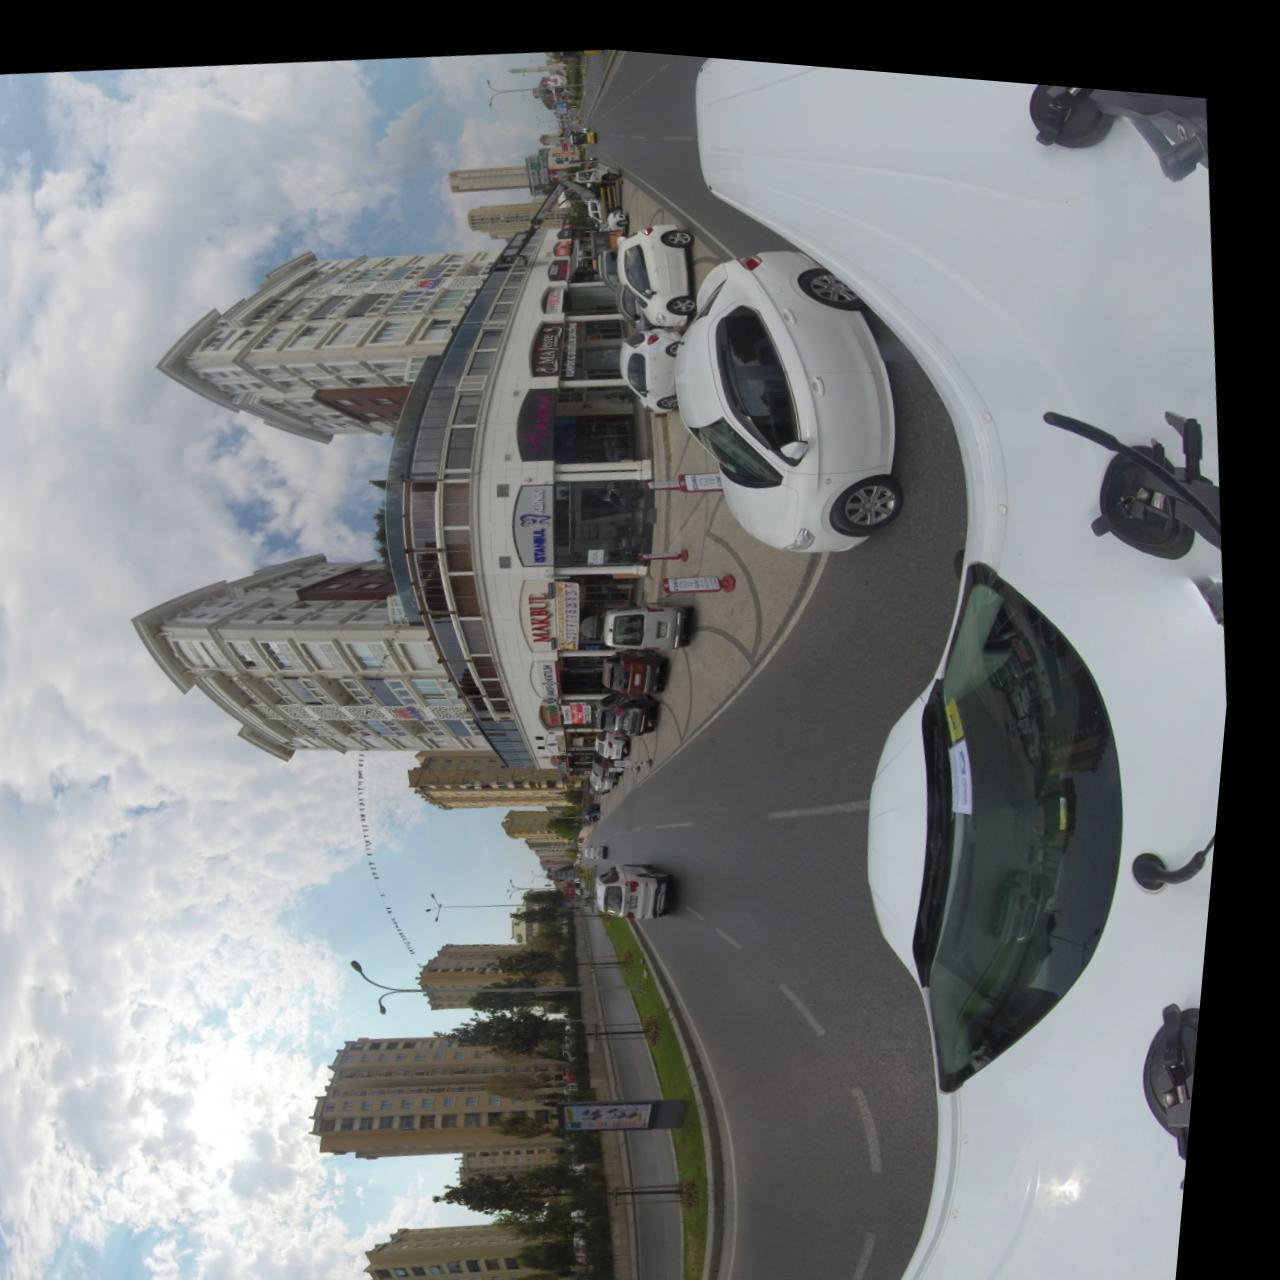SignStore: (523, 474, 564, 556), (524, 376, 565, 450), (531, 568, 568, 640), (538, 312, 568, 367), (549, 649, 573, 694), (551, 248, 572, 271), (559, 719, 579, 741), (554, 694, 574, 716), (559, 206, 576, 229), (568, 744, 583, 765), (557, 230, 574, 245)
